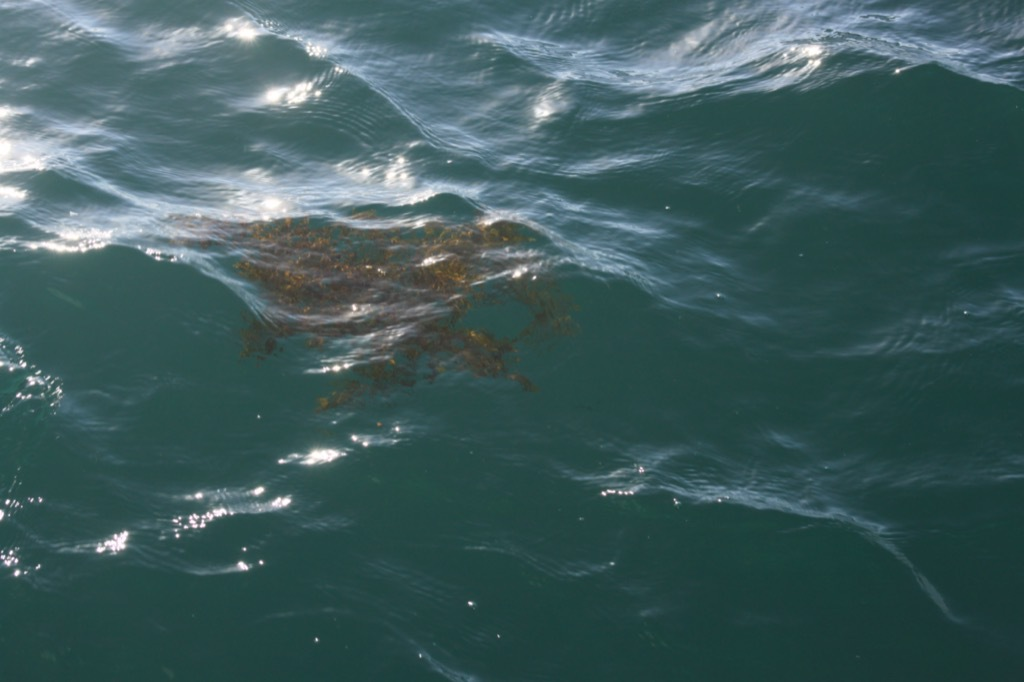organic: (117, 145, 608, 435)
